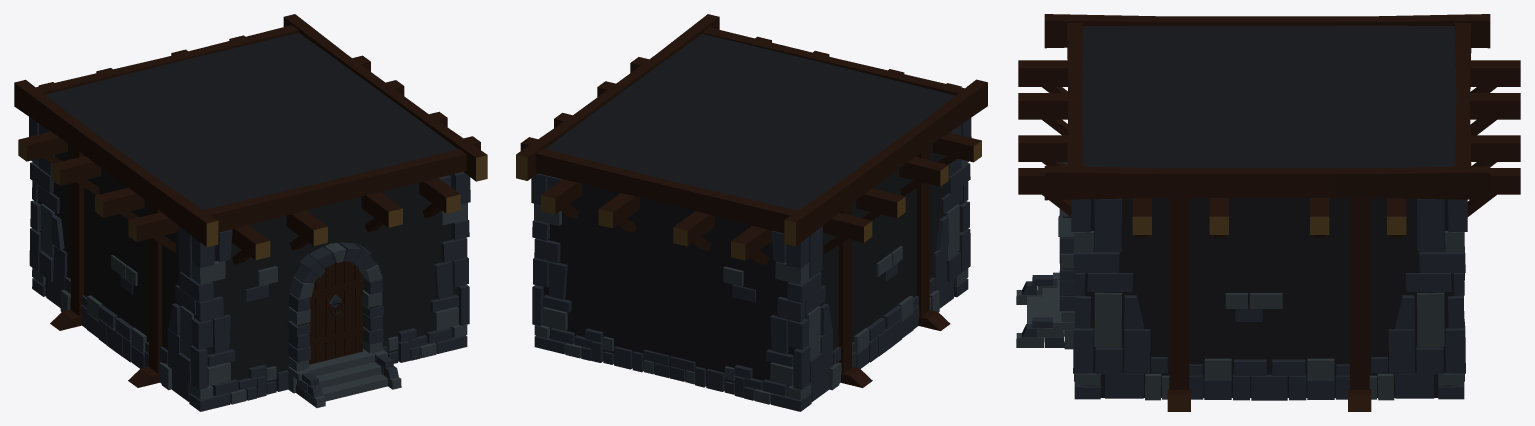
File: House_A.obj
3 renders of one model, left to right at view 1: azimuth 30°, elevation 25°; view 2: azimuth 150°, elevation 25°; view 3: azimuth 270°, elevation 25°, orthographic. The views are drawn at different scales.
Parts seen in each view (by area): view 1: House_A; view 2: House_A; view 3: House_A.
Part boxes in pixels (<box>): House_A: <box>14,14,487,411</box>; House_A: <box>516,14,987,411</box>; House_A: <box>1016,14,1520,411</box>.
Size of the model in its own units: 1.8 by 1 by 1.98.
